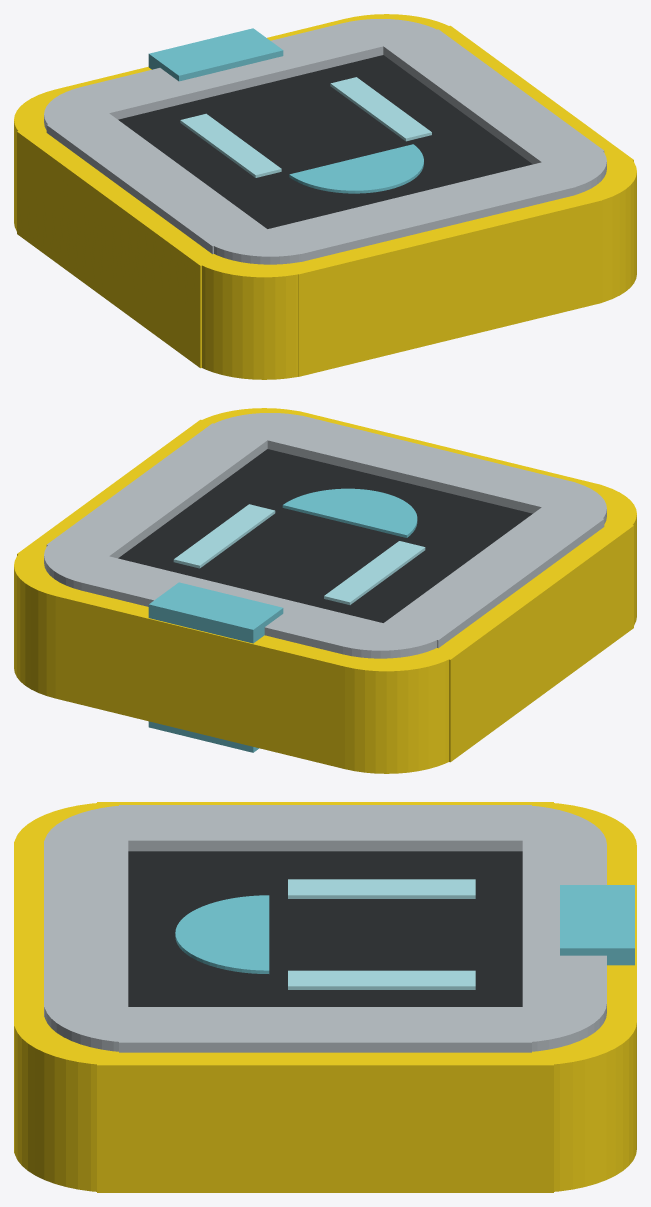
The model's file is MoniLife.obj.
3 renders of one model, top to bottom at view 1: azimuth 30°, elevation 25°; view 2: azimuth 150°, elevation 25°; view 3: azimuth 270°, elevation 25°, orthographic. The views are drawn at different scales.
Visible parts, largest first — view 1: MoniLife; view 2: MoniLife; view 3: MoniLife.
Part boxes in pixels (bbox=[...]): MoniLife: bbox=[14, 14, 636, 379]; MoniLife: bbox=[14, 408, 636, 773]; MoniLife: bbox=[14, 802, 636, 1192].
Size of the model in its own units: 2.66 by 0.72 by 2.66.
